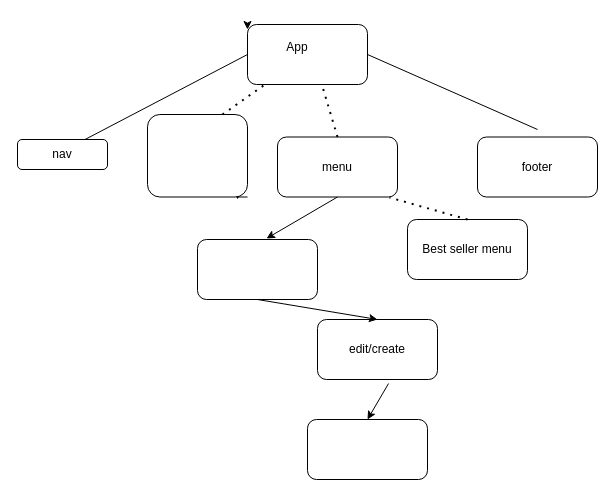
The diagram is 615 pixels wide and 497 high, and some of its shapes have lost their labels. Each missing label, with the centre of its shape:
"home map through my fruits" goes at pixel 197 155.
"order" goes at pixel 257 269.
"person order/ ty" goes at pixel 367 449.
